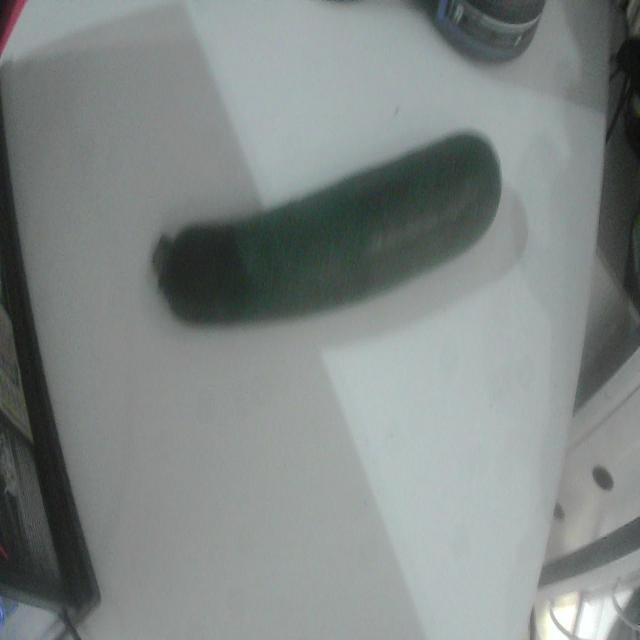Courgette: (152, 135, 500, 325)
